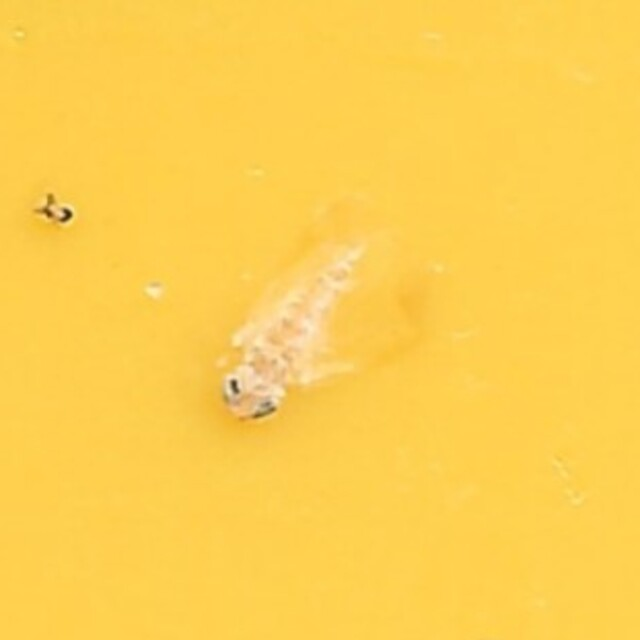Hemiptera: (206, 201, 434, 439)
